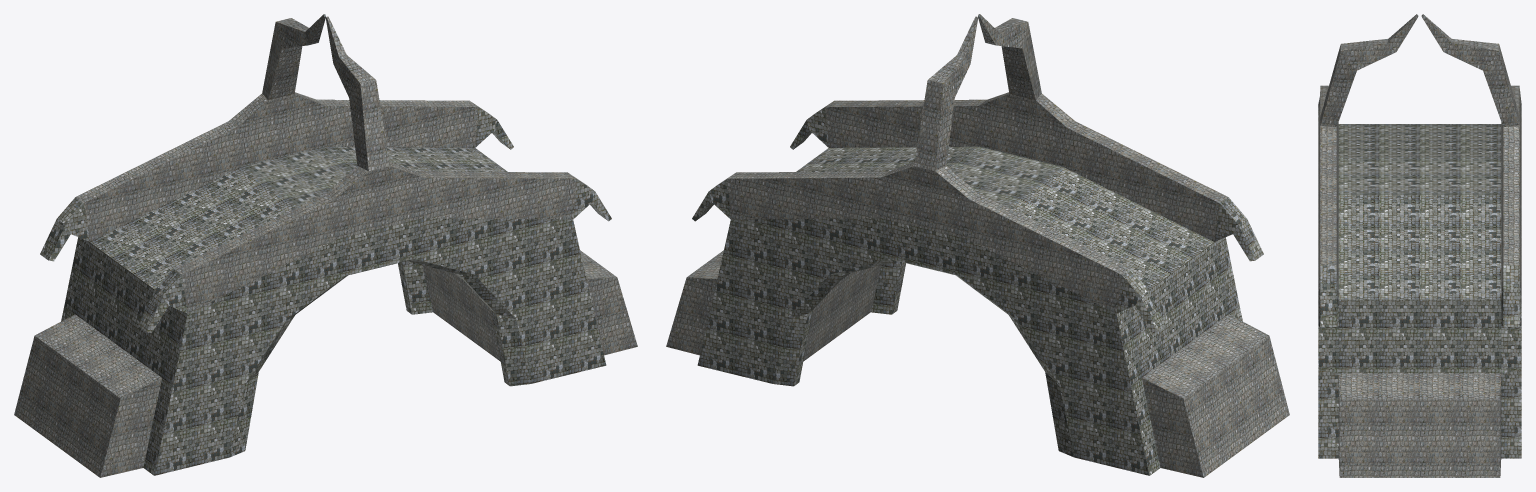
3 renders of one model, left to right at view 1: azimuth 30°, elevation 25°; view 2: azimuth 150°, elevation 25°; view 3: azimuth 270°, elevation 25°, orthographic. The views are drawn at different scales.
Visible parts, largest first — view 1: TexturesCom_FloorsMedieval0051_M, TexturesCom_FloorsMedieval0053_1_M; view 2: TexturesCom_FloorsMedieval0051_M, TexturesCom_FloorsMedieval0053_1_M; view 3: TexturesCom_FloorsMedieval0051_M, TexturesCom_FloorsMedieval0053_1_M.
Boxes of the visible parts, x1=… form: TexturesCom_FloorsMedieval0051_M: x1=40, y1=14, x2=611, y2=475; TexturesCom_FloorsMedieval0053_1_M: x1=14, y1=14, x2=637, y2=477; TexturesCom_FloorsMedieval0051_M: x1=692, y1=14, x2=1263, y2=475; TexturesCom_FloorsMedieval0053_1_M: x1=666, y1=14, x2=1289, y2=477; TexturesCom_FloorsMedieval0051_M: x1=1318, y1=14, x2=1521, y2=458; TexturesCom_FloorsMedieval0053_1_M: x1=1318, y1=14, x2=1521, y2=477.
Size of the model in its own units: 14.27 by 9.27 by 5.
Materials: 2 (2 with a texture image).
